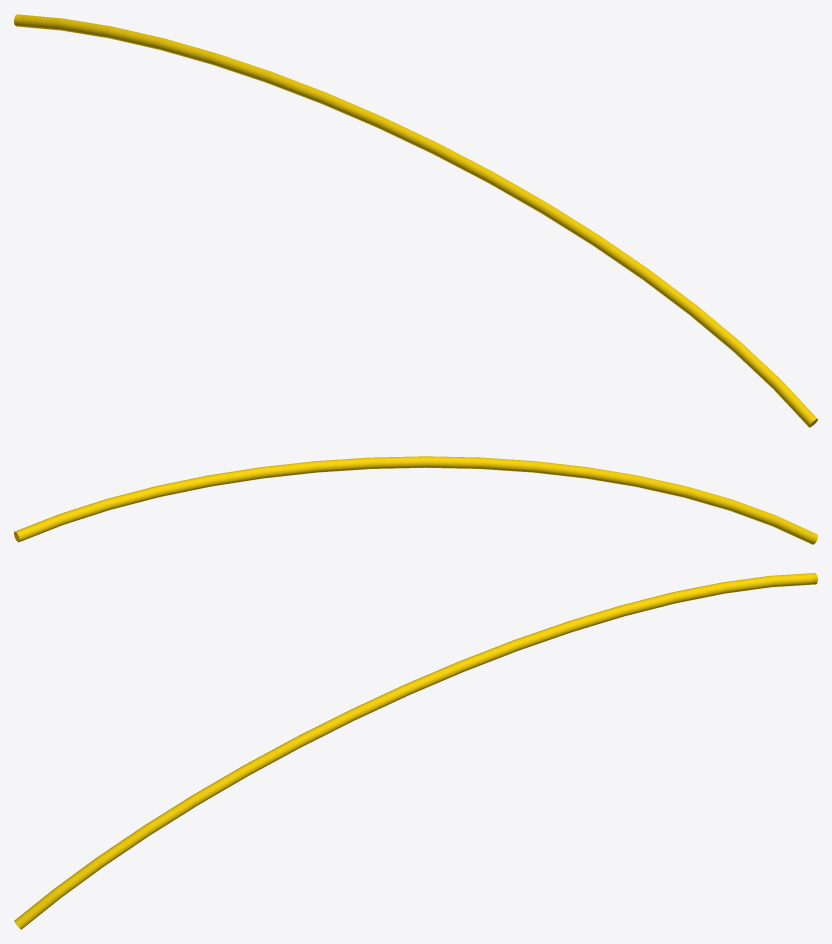
Rendered from Event_420107950_track_12.fbx.
The picture shows the model from 3 angles, top to bottom: view 1: azimuth 90°, elevation 25°; view 2: azimuth 150°, elevation 25°; view 3: azimuth 330°, elevation 25°; orthographic projection. The views are drawn at different scales.
Parts seen in each view (by area): view 1: Model; view 2: Model; view 3: Model.
Boxes of the visible parts, left/top/right/bottom form: Model: left=14, top=14, right=817, bottom=427; Model: left=14, top=456, right=817, bottom=544; Model: left=14, top=573, right=817, bottom=929.
Bounding box in the file's own units: 1.72 × 0.7532 × 2.63.
